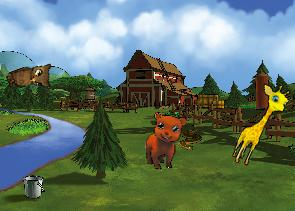bear: (145, 112, 187, 170)
giraffe: (228, 78, 294, 172)
owl: (4, 58, 57, 100)
